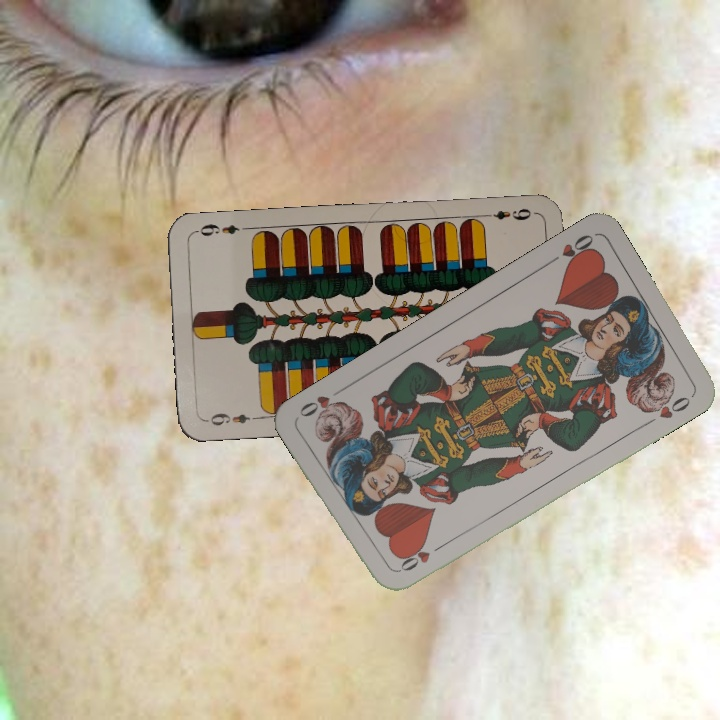E9: (202, 408, 261, 429), (481, 204, 534, 223)
HO: (543, 230, 597, 268), (391, 540, 446, 576)
